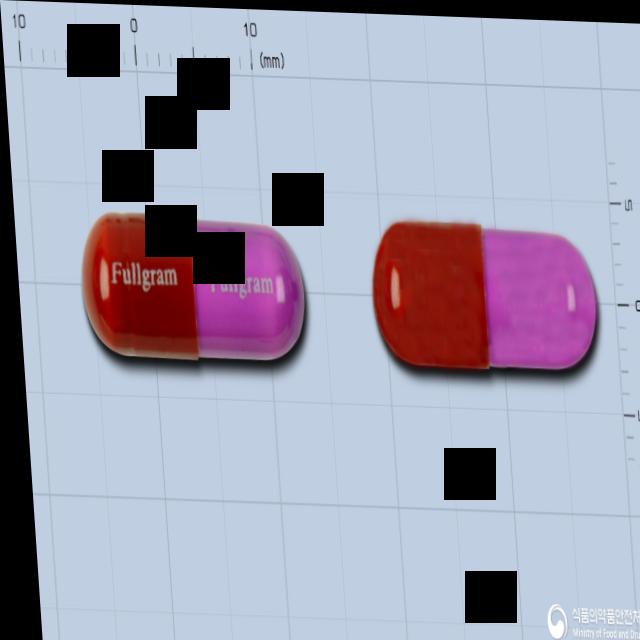Fullgram Cap: (363, 215, 599, 371), (73, 209, 305, 364)
